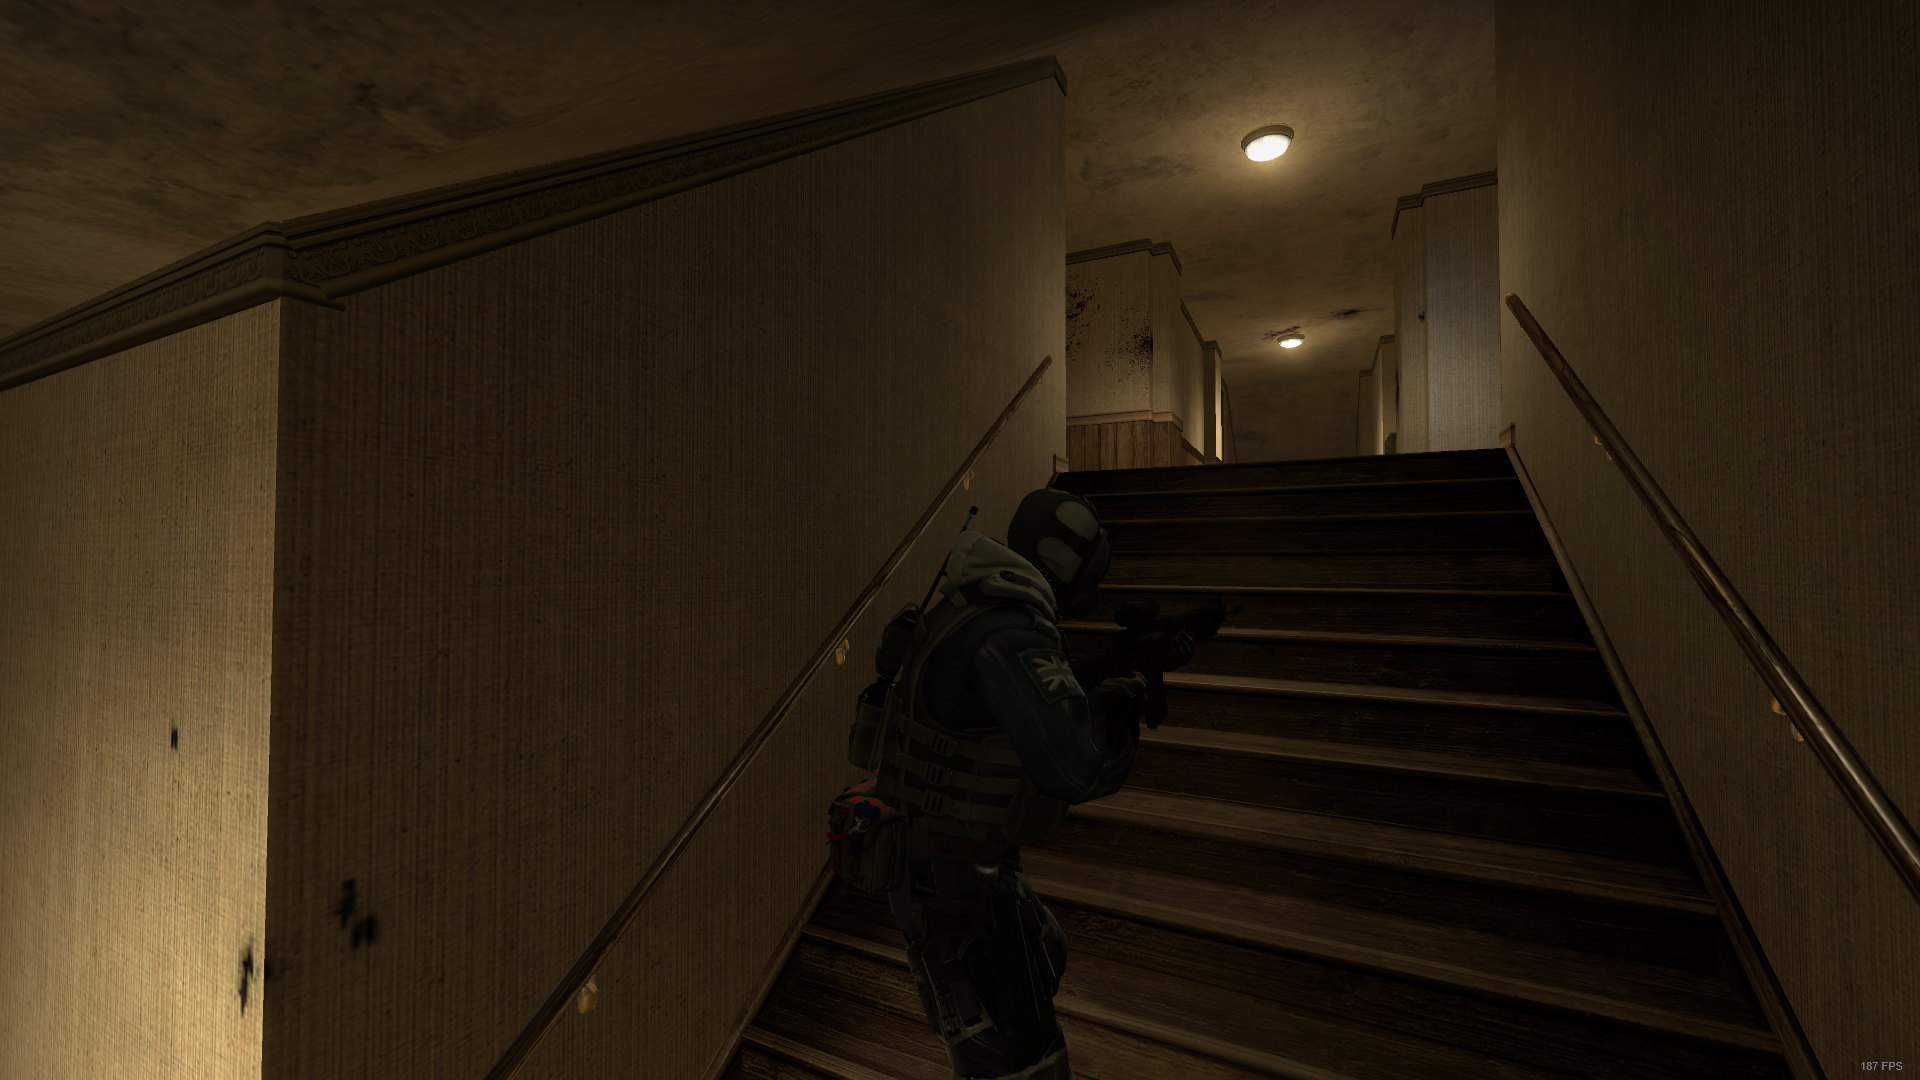ct: (837, 487, 1146, 1080)
